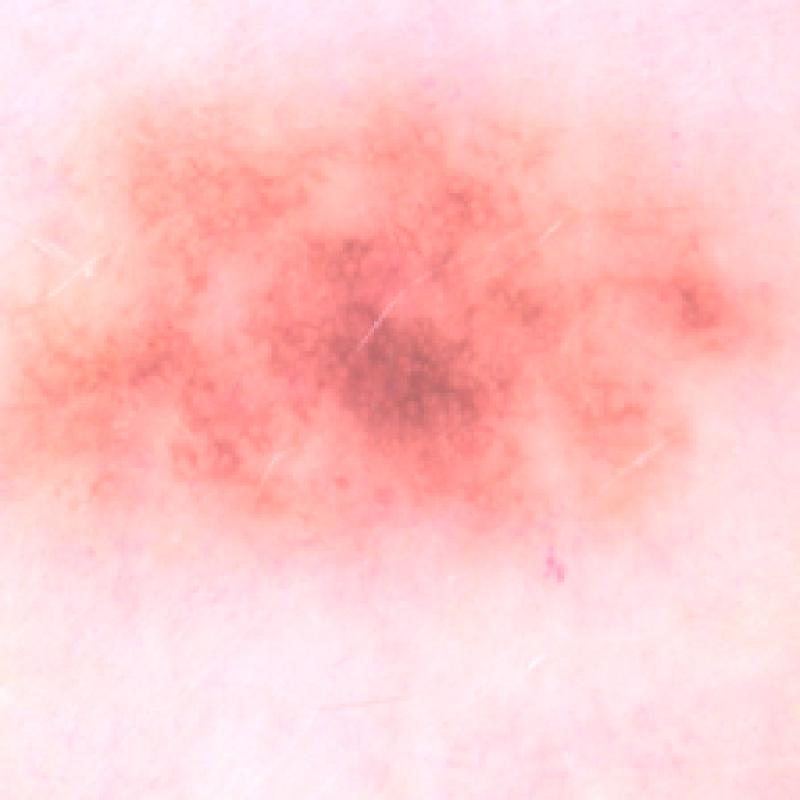benign: (21, 91, 742, 569)
